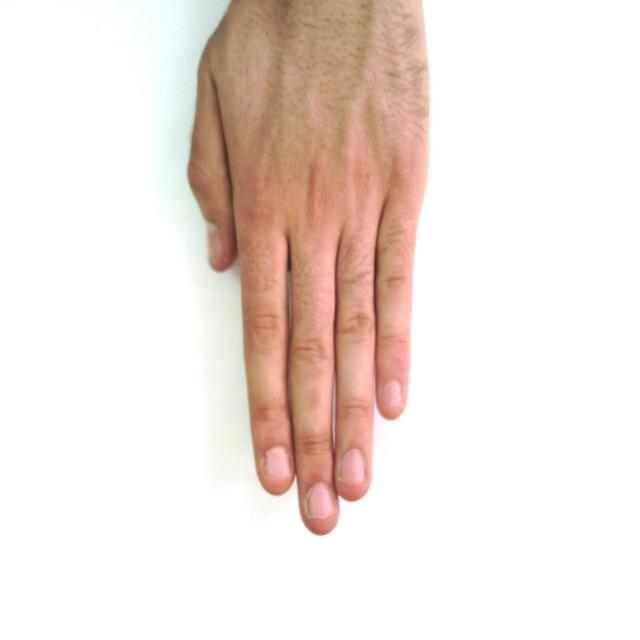others: (142, 1, 467, 538)
